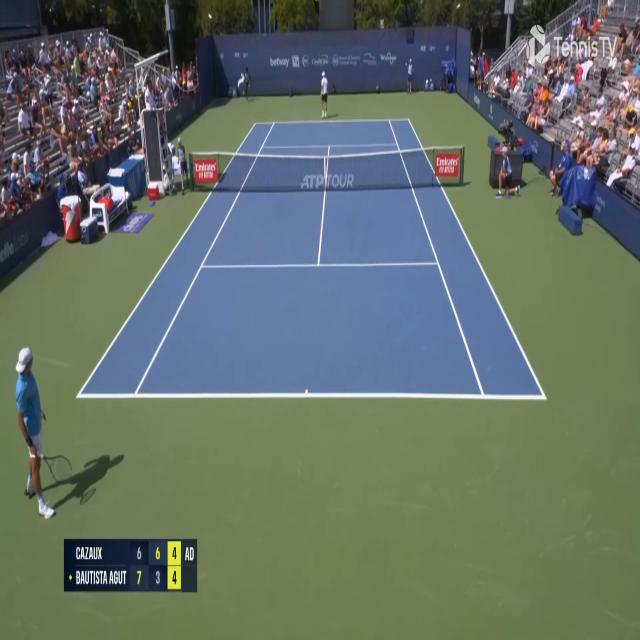tennis-player: (13, 342, 52, 524), (318, 70, 336, 118)
